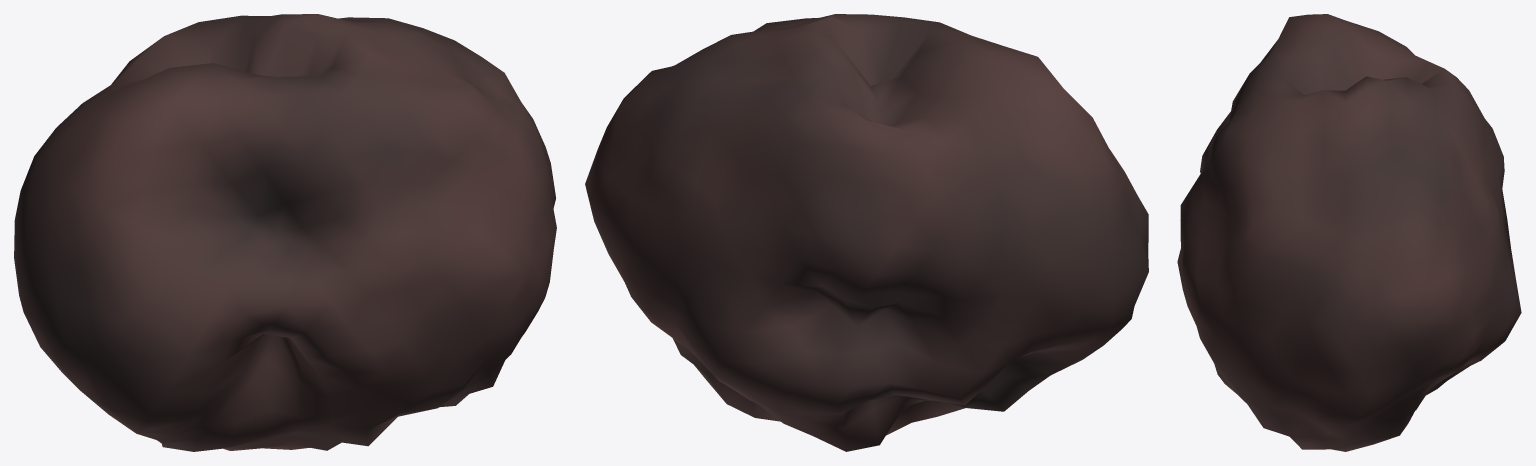
The model's file is asteroid_20.glb.
The picture shows the model from 3 angles, left to right: view 1: azimuth 30°, elevation 25°; view 2: azimuth 150°, elevation 25°; view 3: azimuth 270°, elevation 25°; orthographic projection. The views are drawn at different scales.
Parts seen in each view (by area): view 1: Asteroid_20; view 2: Asteroid_20; view 3: Asteroid_20.
Part boxes in pixels (bbox=[...]): Asteroid_20: bbox=[14, 14, 556, 451]; Asteroid_20: bbox=[585, 14, 1148, 451]; Asteroid_20: bbox=[1177, 14, 1521, 451].
Size of the model in its own units: 2.35 by 1.77 by 1.62.
